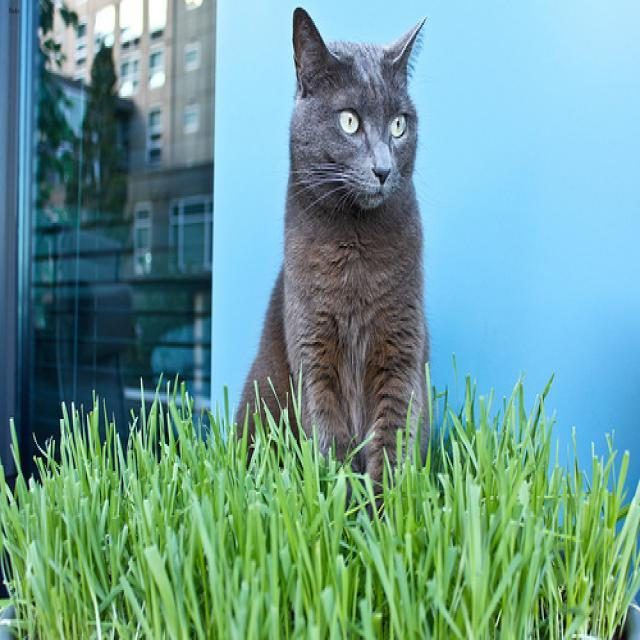Russian_Blue: (289, 2, 429, 217)
